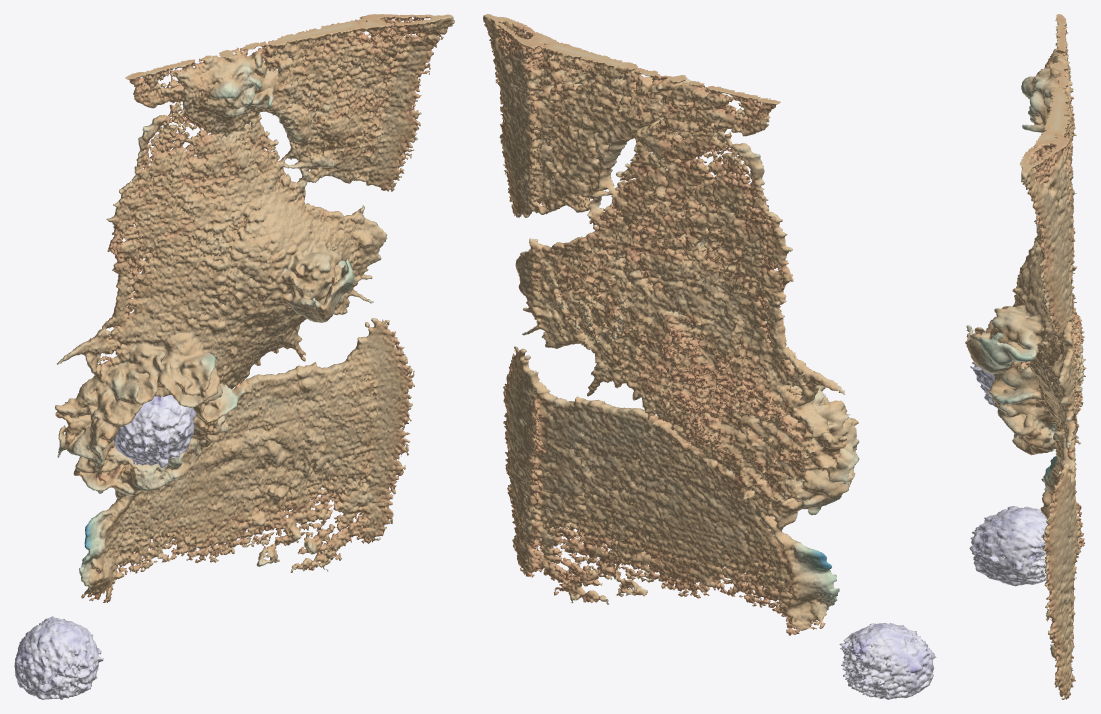
Rendered from Surfaces_5.glb.
3 views of the same model, side by side, from view 1: azimuth 30°, elevation 25°; view 2: azimuth 150°, elevation 25°; view 3: azimuth 270°, elevation 25° (orthographic). The views are drawn at different scales.
Visible parts, largest first — view 1: surface (×2); view 2: surface (×2); view 3: surface (×2).
Part boxes in pixels (x1,y1,x2,y2): surface (×2): (14, 14, 454, 699); surface (×2): (483, 14, 936, 699); surface (×2): (965, 14, 1086, 699).
Size of the model in its own units: 615 by 764 by 140.
